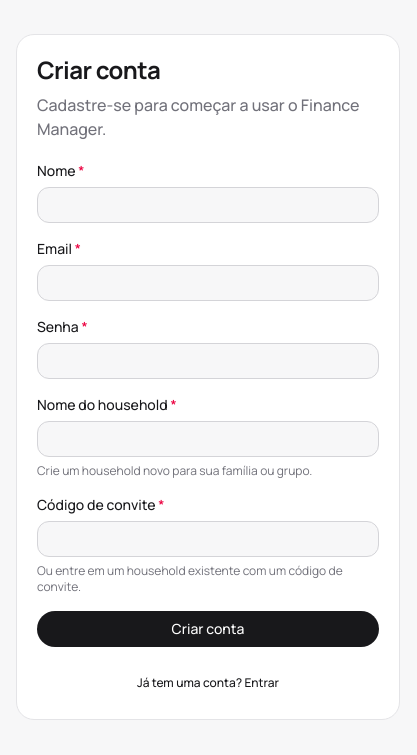
it: RegisterPage › shows an email-in-use message with a link to /login on 409, without navigating away
Type "Household Owner" into the field labelled "Nome *" at point(208, 205), box [37, 187, 379, 223]
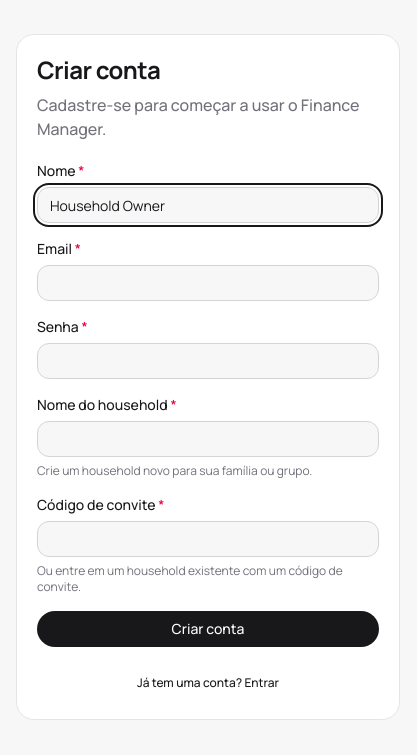
Type "owner@example.com" into the field labelled "Email *" at point(208, 283), box [37, 265, 379, 301]
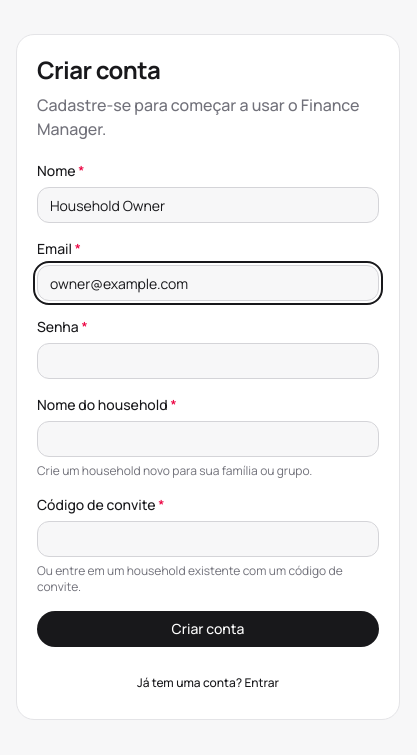
Type "SomePassword123" into the password field labelled "Senha *" at point(208, 361), box [37, 343, 379, 379]
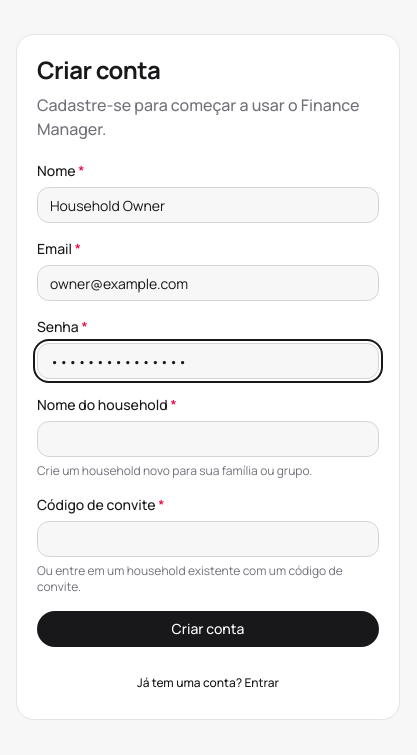
Type "The Smiths" into the field labelled "Nome do household *" at point(208, 439), box [37, 421, 379, 457]
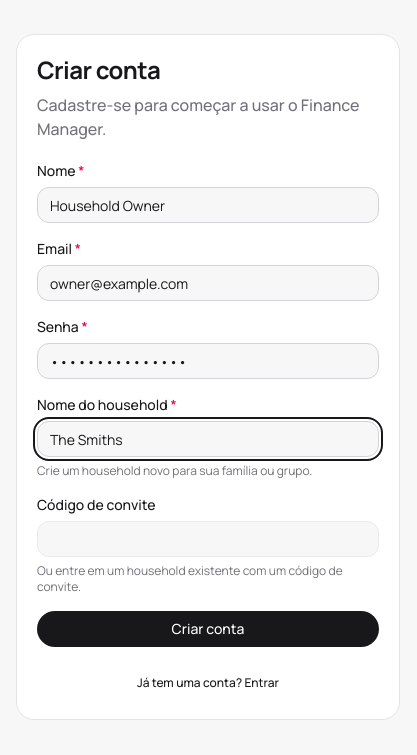
Click the button "Criar conta" at point(208, 629), box [37, 611, 379, 647]
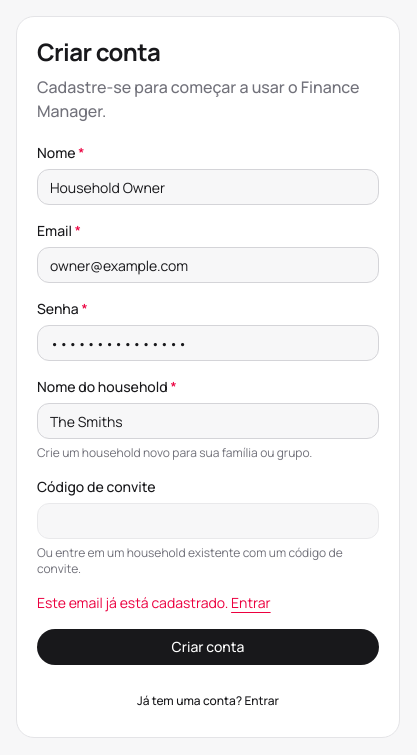
Check: the message shows "já está cadastrado", box [37, 593, 228, 612]
